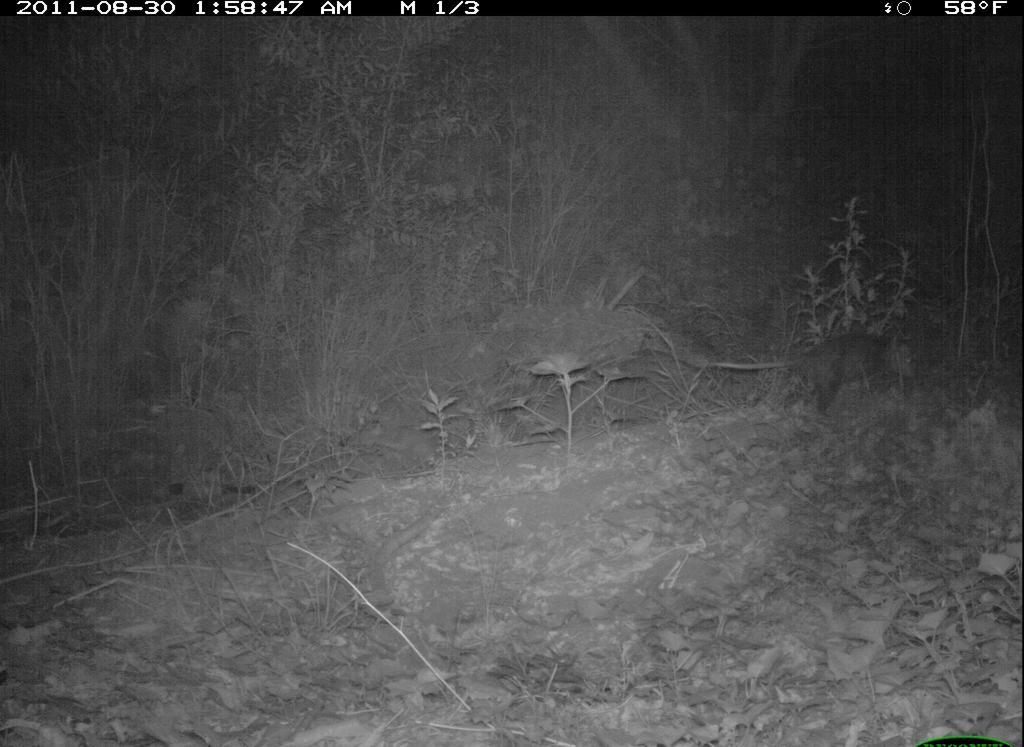opossum: (712, 319, 918, 414)
